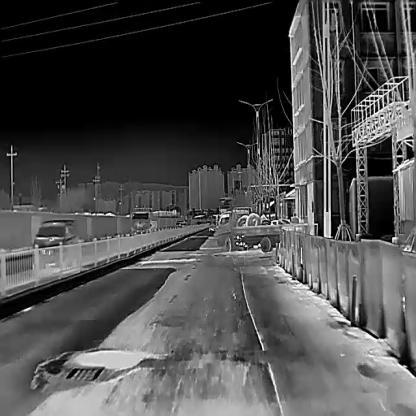car: (216, 207, 309, 250), (32, 219, 81, 268), (131, 209, 175, 232)
